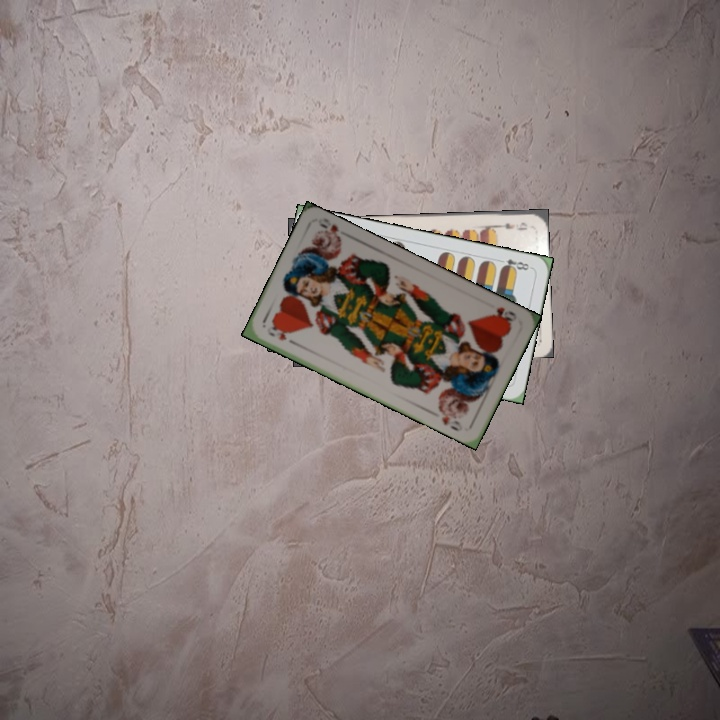E8: (494, 255, 534, 274)
E9: (492, 218, 530, 233)
HO: (263, 323, 299, 348), (488, 303, 519, 327)
